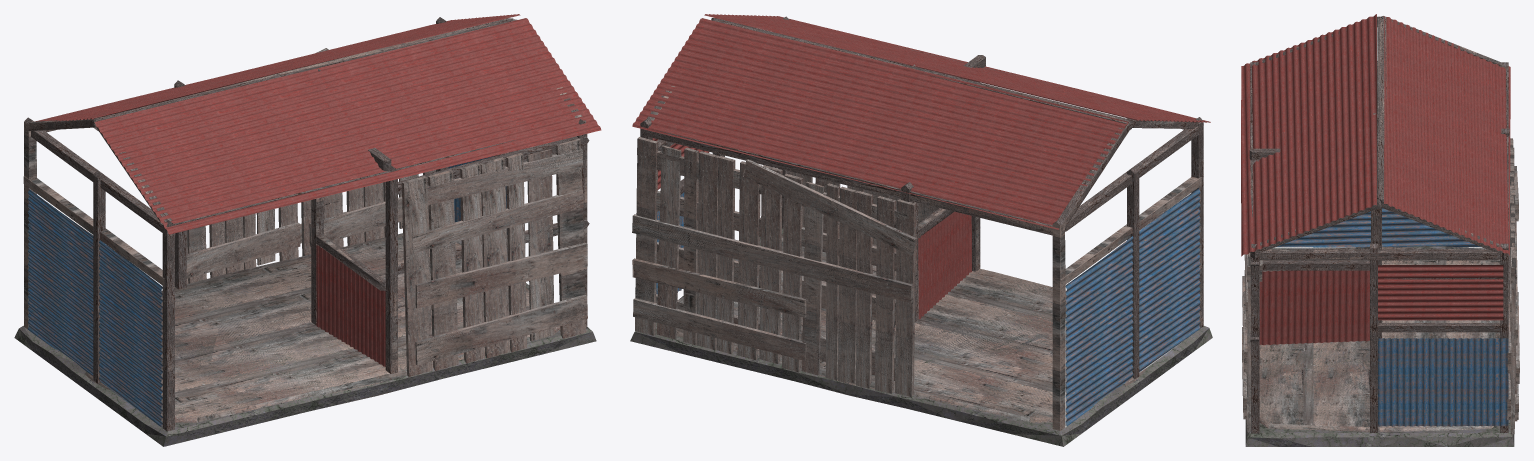
The model's file is Mini_shed.fbx.
3 renders of one model, left to right at view 1: azimuth 30°, elevation 25°; view 2: azimuth 150°, elevation 25°; view 3: azimuth 270°, elevation 25°, orthographic. The views are drawn at different scales.
Parts seen in each view (by area): view 1: Group1; view 2: Group1; view 3: Group1.
Boxes of the visible parts, box(x1,y1,x2,y2) form: Group1: box(14, 14, 601, 446); Group1: box(630, 14, 1212, 446); Group1: box(1241, 14, 1519, 446).
Size of the model in its own units: 696 by 419 by 428.
